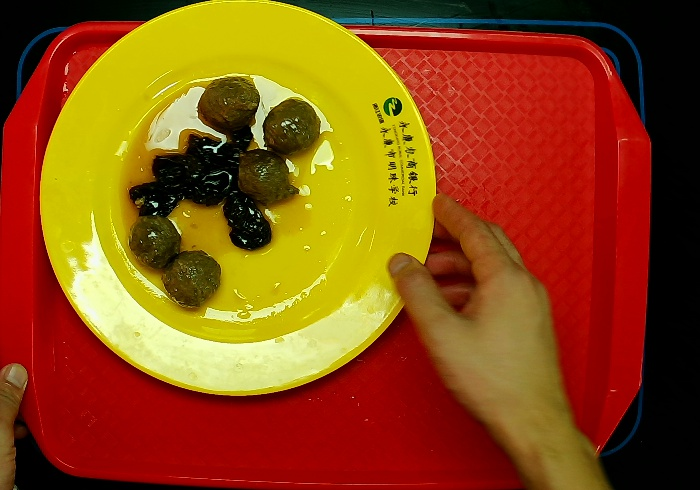YKMZ-Huang_Se_Mian_Pan: (36, 1, 438, 398)
